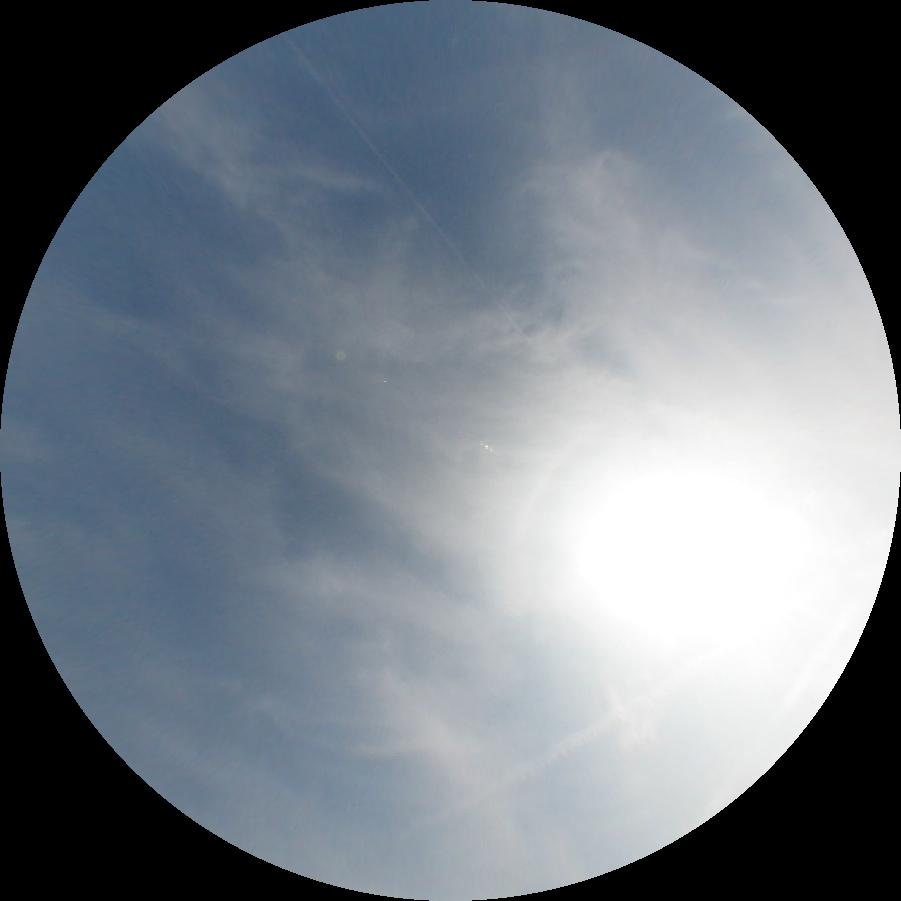contrail old: (419, 692, 655, 828)
contrail young: (283, 33, 534, 348)
sun: (578, 472, 804, 640)
